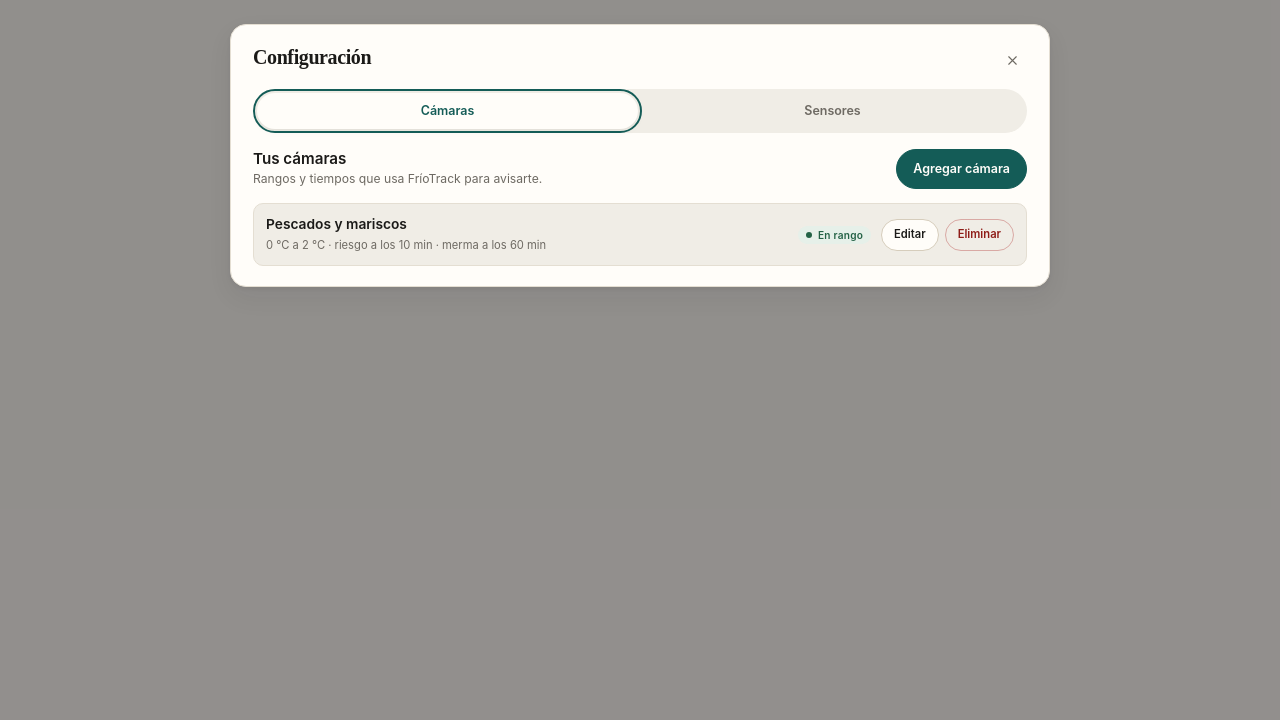
Test: Configuracion › crea un sensor, muestra el token una vez y permite copiarlo
Expected: the button with aria-label "Eliminar cámara Pescados y mariscos" is shown, [945,219,1014,251]
Click the tab "Sensores" at (832, 111), box [642,93,1023,129]
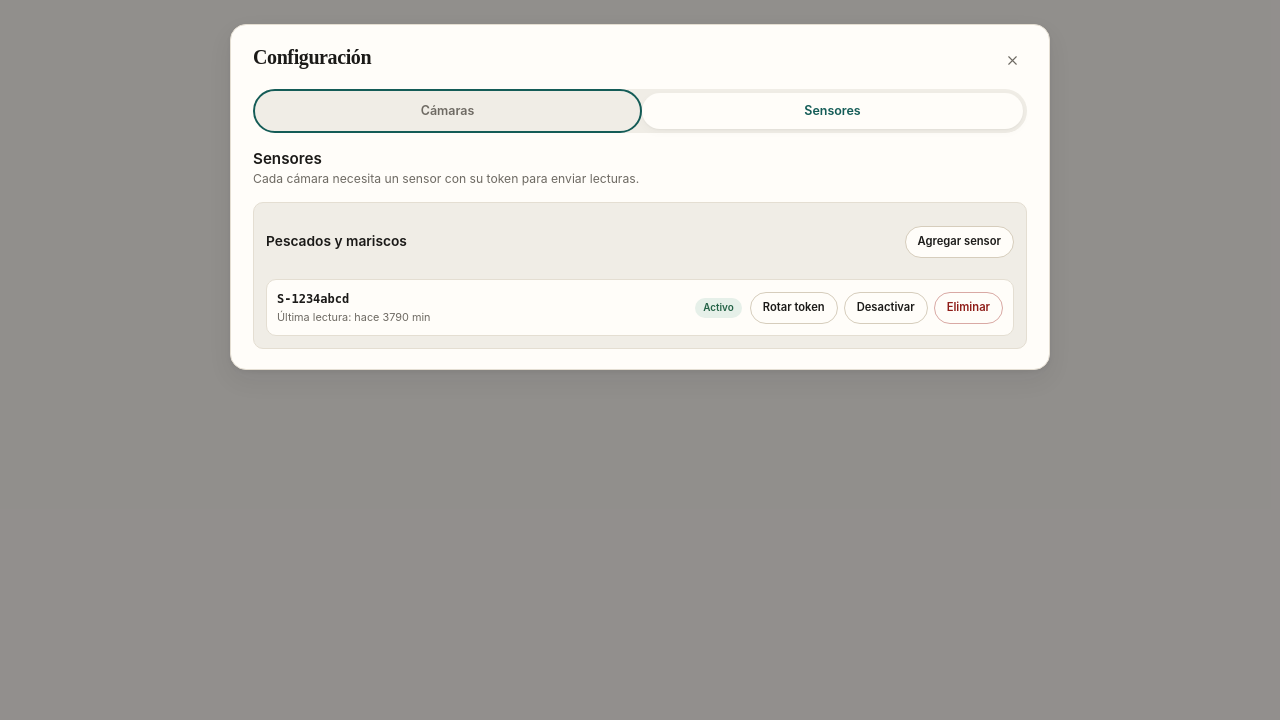
Click the button with aria-label "Agregar sensor a Pescados y mariscos" at (959, 242), box [904,226,1014,258]
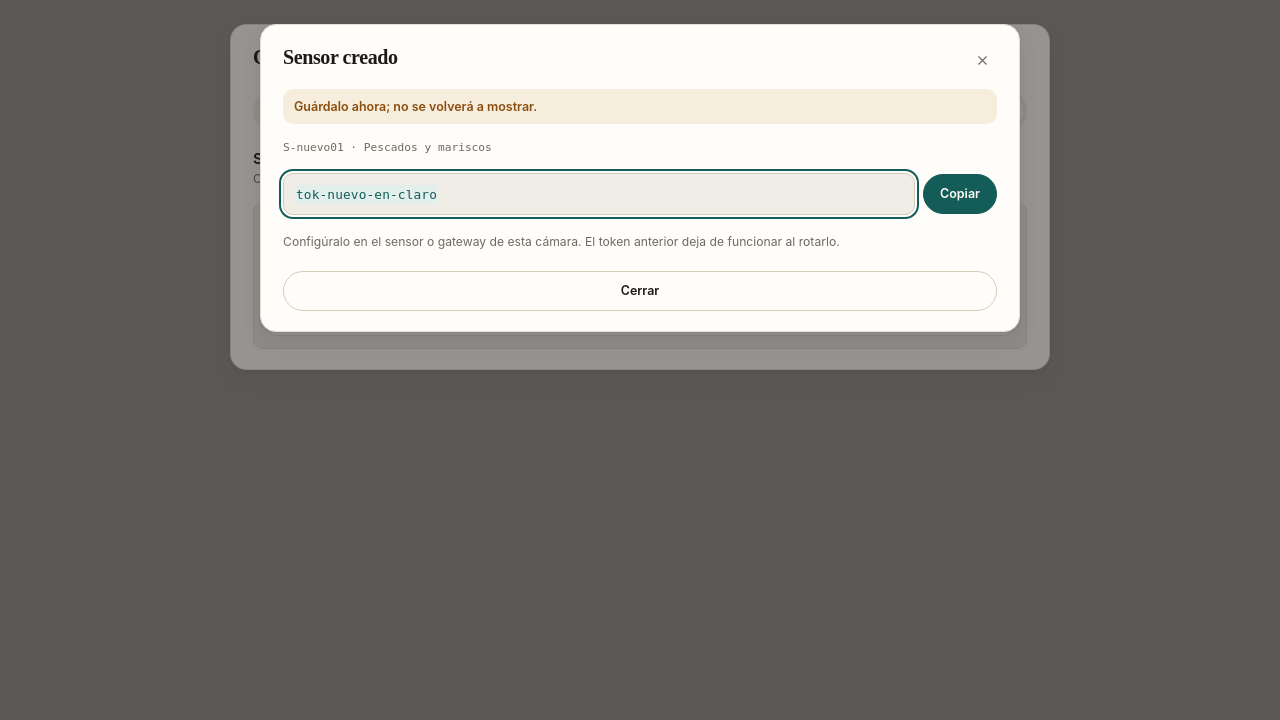
Result: the field named "Token del sensor" holds "tok-nuevo-en-claro" at [283,173,915,215]
Result: the text "Guárdalo ahora; no se volverá a mostrar." is shown at [283,89,997,124]
Click the button "Copiar" at (960, 194), box [923,174,997,214]
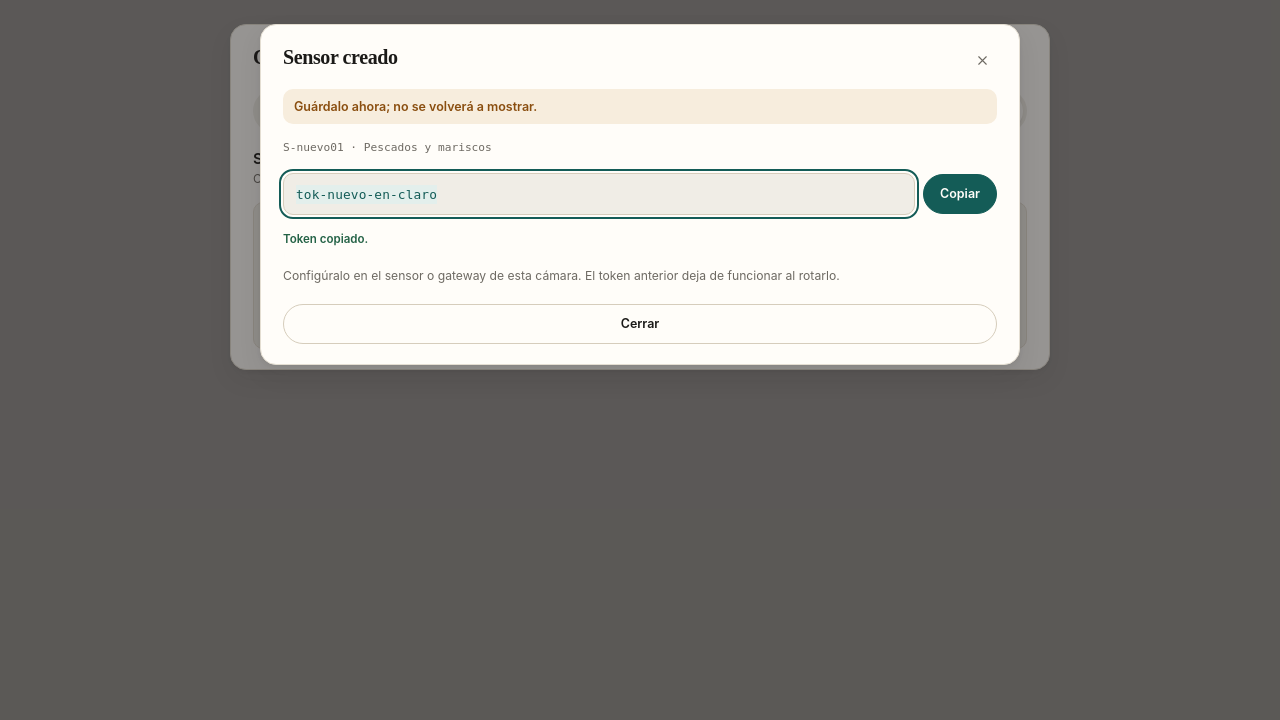
Result: the text "Token copiado." is shown at [283,232,368,246]
